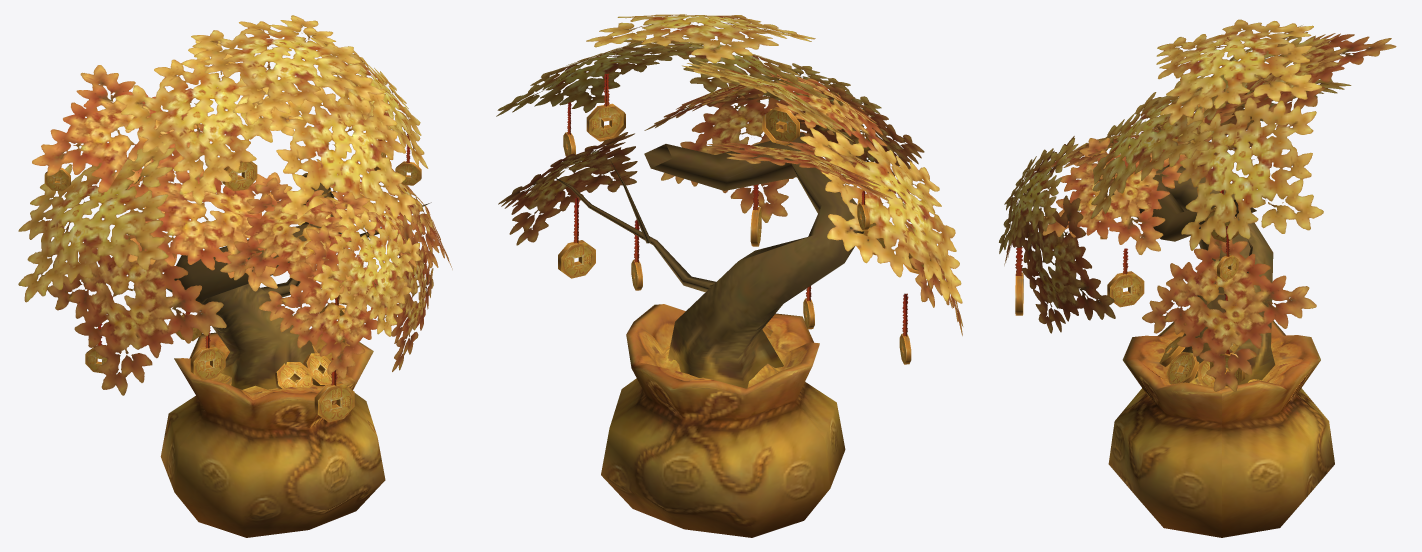
The model's file is yaoqianshu01_53_48_1033out.fbx.
3 renders of one model, left to right at view 1: azimuth 30°, elevation 25°; view 2: azimuth 150°, elevation 25°; view 3: azimuth 270°, elevation 25°, orthographic. The views are drawn at different scales.
Visible parts, largest first — view 1: yaoqianshu01; view 2: yaoqianshu01; view 3: yaoqianshu01.
Boxes of the visible parts, x1=… form: yaoqianshu01: x1=18, y1=15, x2=452, y2=537; yaoqianshu01: x1=496, y1=14, x2=963, y2=537; yaoqianshu01: x1=999, y1=19, x2=1396, y2=537.
Bounding box in the file's own units: 1.39 × 1.4 × 1.14.
